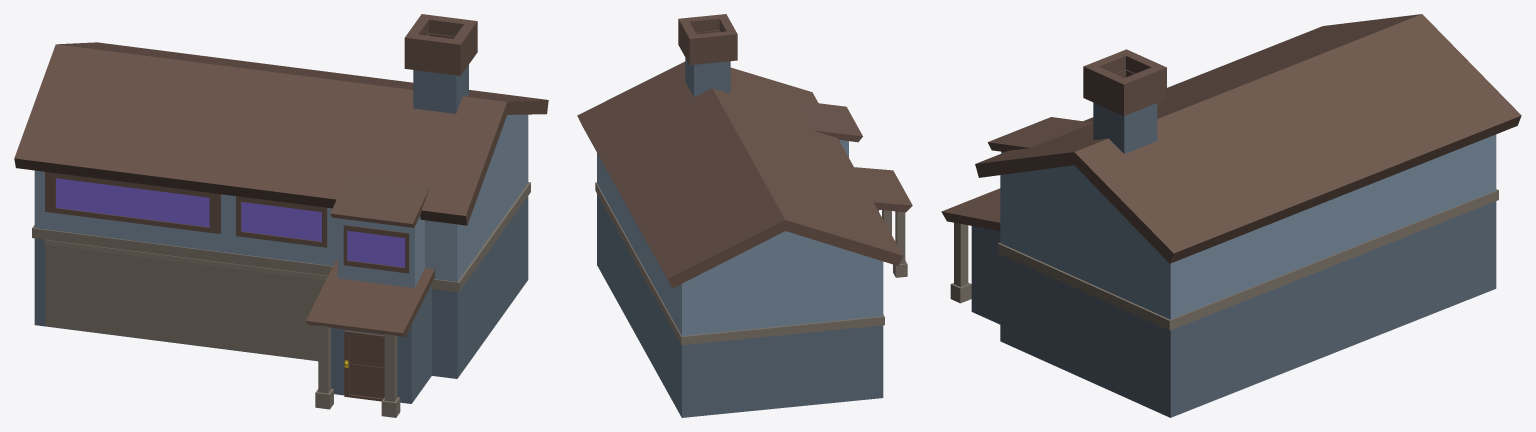
File: CALLE2_CASA_2_003.fbx
3 views of the same model, side by side, from view 1: azimuth 30°, elevation 25°; view 2: azimuth 150°, elevation 25°; view 3: azimuth 270°, elevation 25° (orthographic). The views are drawn at different scales.
Visible parts, largest first — view 1: CASA 2.003; view 2: CASA 2.003; view 3: CASA 2.003.
Part boxes in pixels (bbox=[...]): CASA 2.003: bbox=[14, 14, 548, 417]; CASA 2.003: bbox=[577, 14, 912, 417]; CASA 2.003: bbox=[941, 14, 1521, 417].
Size of the model in its own units: 1118 by 680 by 1205.
